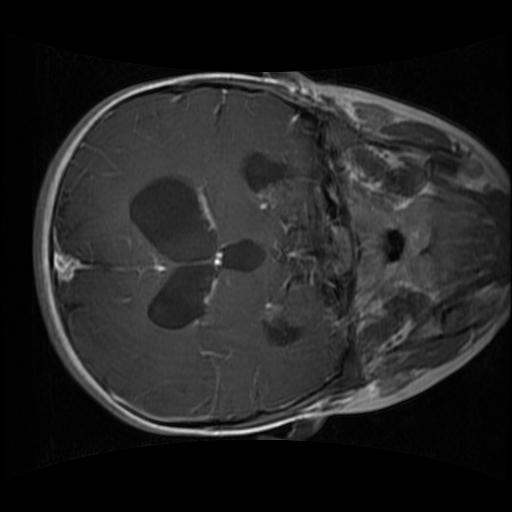glioma: (125, 173, 220, 266)
